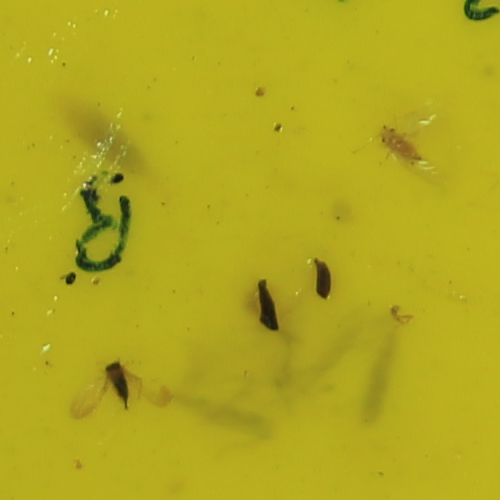Glycaspis: (377, 124, 423, 164)
psylla: (103, 360, 130, 410)
